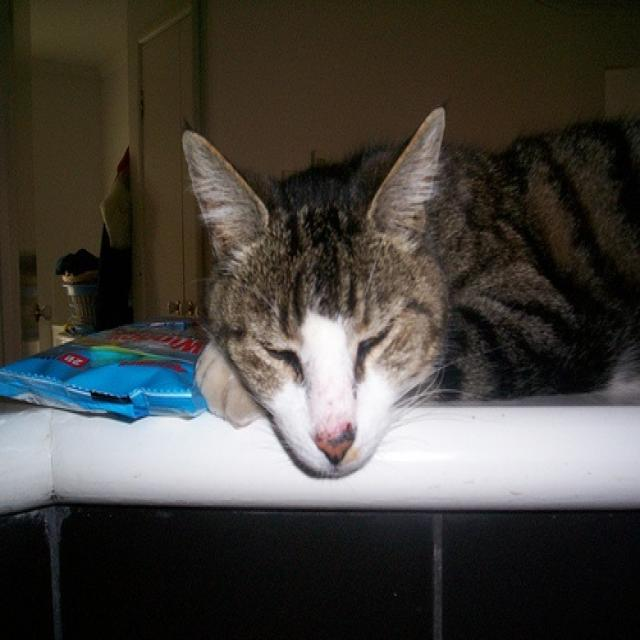cat: (179, 108, 639, 480)
